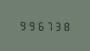eight: (63, 20, 71, 31)
nine: (17, 19, 25, 30), (26, 19, 34, 30)
seven: (45, 20, 53, 31)
six: (36, 19, 44, 30)
three: (54, 20, 62, 31)
